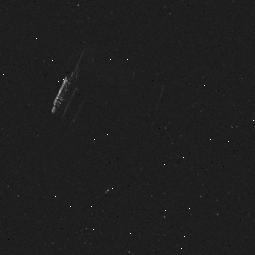soho: (50, 35, 156, 143)
